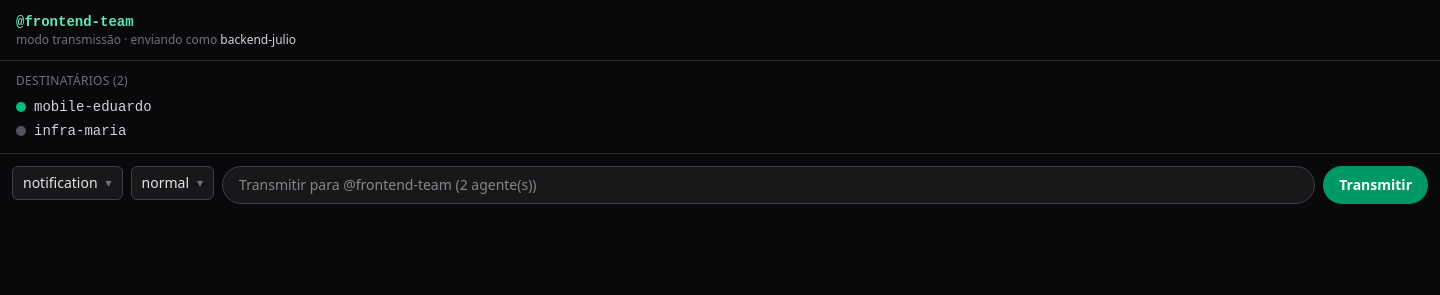
Scenario: BroadcastPanel › broadcasts and shows the humanized fan-out result
Step 1. Type "deploy às 18h" into the field with placeholder "Transmitir para @frontend-team (2 agente(s))" → (769, 185), box [222, 166, 1315, 204]
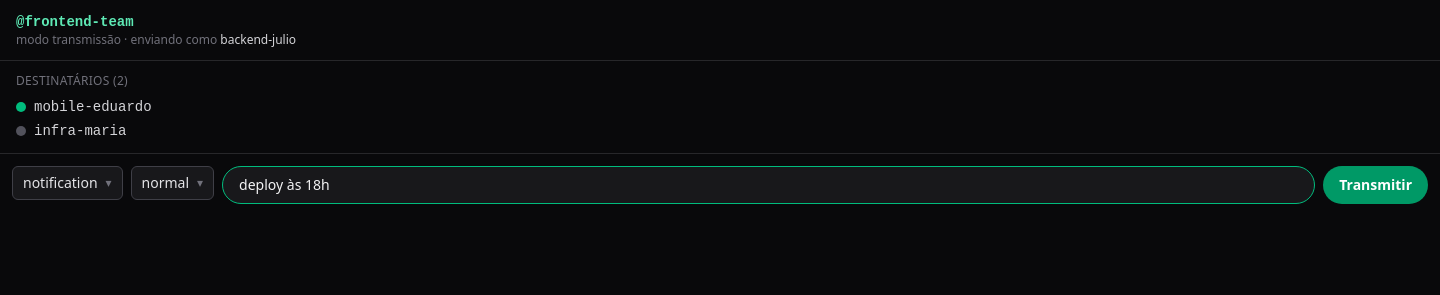
Step 2. Click the button "Transmitir" → (1376, 185), box [1323, 166, 1428, 204]
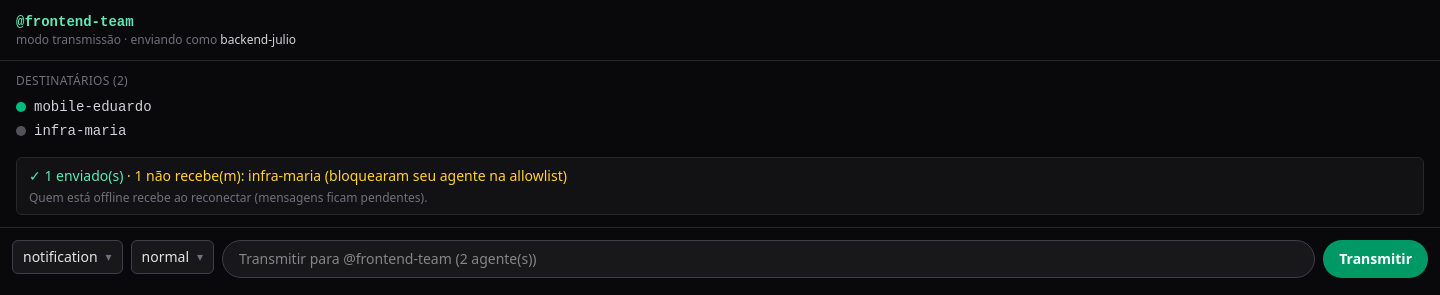
Check: the text "1 enviado" is shown, box [29, 166, 567, 185]
Check: the text "não recebe(m): infra-maria" is shown, box [123, 166, 567, 185]
